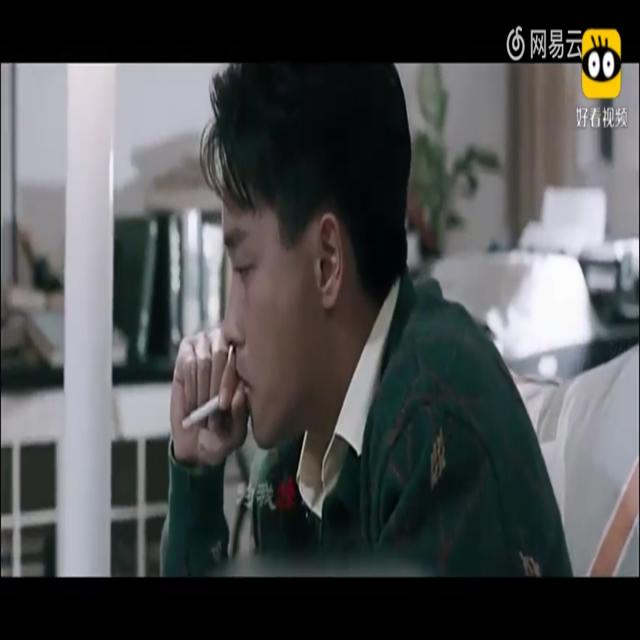smoke: (179, 396, 222, 438)
